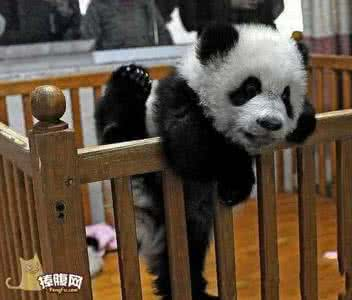panda: (95, 21, 318, 300)
